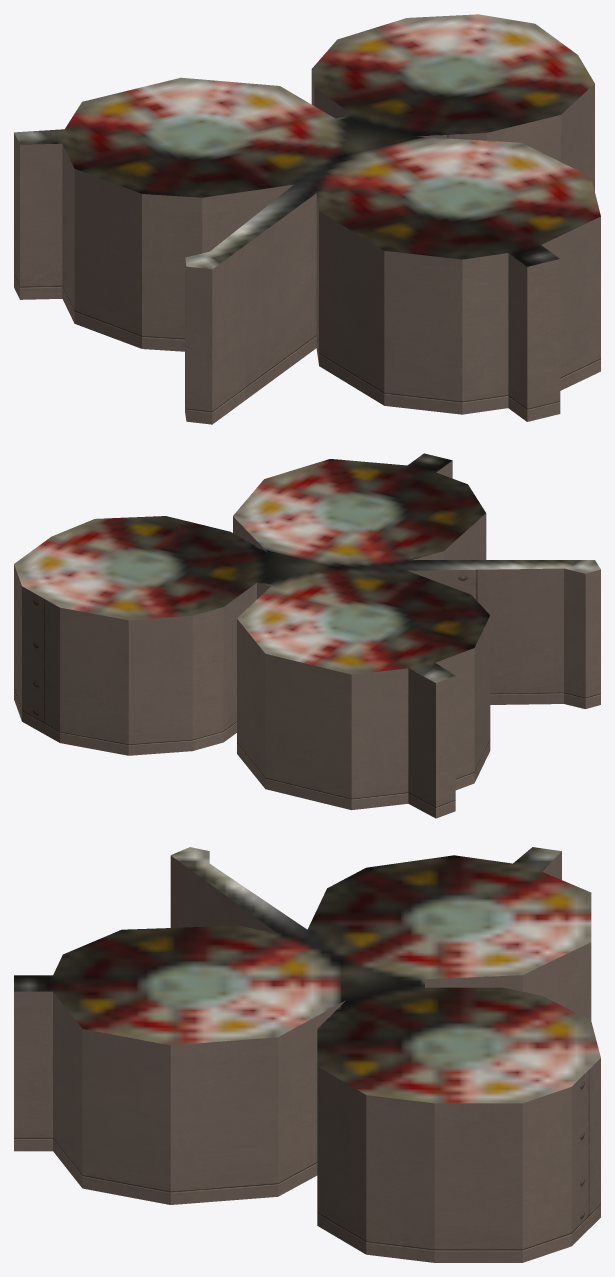
File: fuel_tank_hard_56.glb
3 renders of one model, top to bottom at view 1: azimuth 30°, elevation 25°; view 2: azimuth 150°, elevation 25°; view 3: azimuth 270°, elevation 25°, orthographic. The views are drawn at different scales.
Visible parts, largest first — view 1: buildings/saxarba/fuel_tanks/fuel_tank_hard_56; view 2: buildings/saxarba/fuel_tanks/fuel_tank_hard_56; view 3: buildings/saxarba/fuel_tanks/fuel_tank_hard_56.
Boxes of the visible parts, x1,y1,x2,y2 form: buildings/saxarba/fuel_tanks/fuel_tank_hard_56: [14, 14, 600, 424]; buildings/saxarba/fuel_tanks/fuel_tank_hard_56: [14, 453, 600, 818]; buildings/saxarba/fuel_tanks/fuel_tank_hard_56: [14, 847, 600, 1262].
Bounding box in the file's own units: 62 × 18 × 60.
